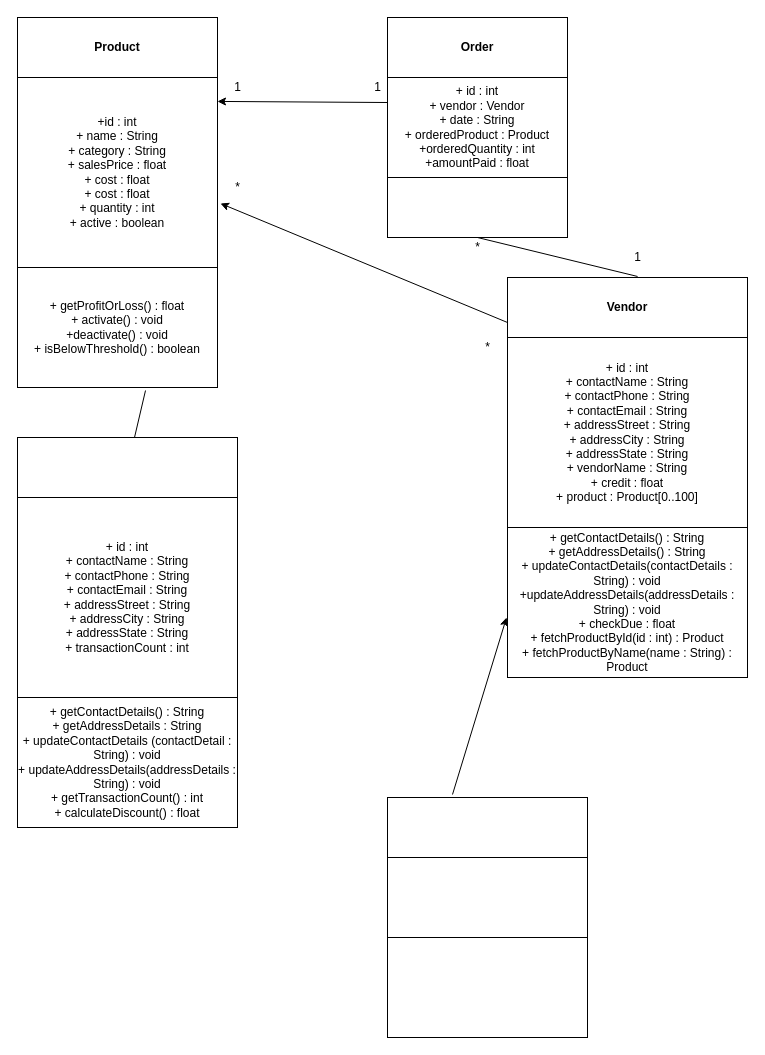
The diagram is 765 pixels wide and 1055 high, and some of its shapes have lost their labels. The box of each missing label's shape, as (x1, y1, x2, y2) in pixels:
+ addOrder(order : Order) : void + fetchOrderById (id : int) : Order: (386, 936, 588, 1038)
+ updateVendorCredit() : void: (386, 176, 568, 238)
- orders : Order[0..100]: (386, 856, 588, 938)
Customers: (16, 436, 238, 498)
OrderList: (386, 796, 588, 858)
